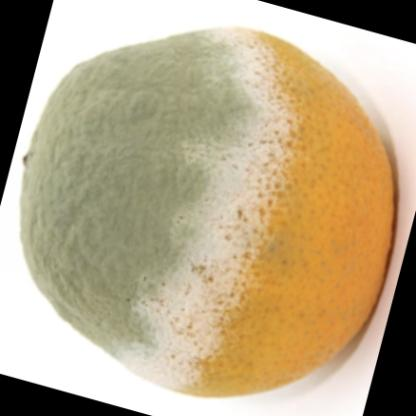rotten: (23, 30, 397, 396)
